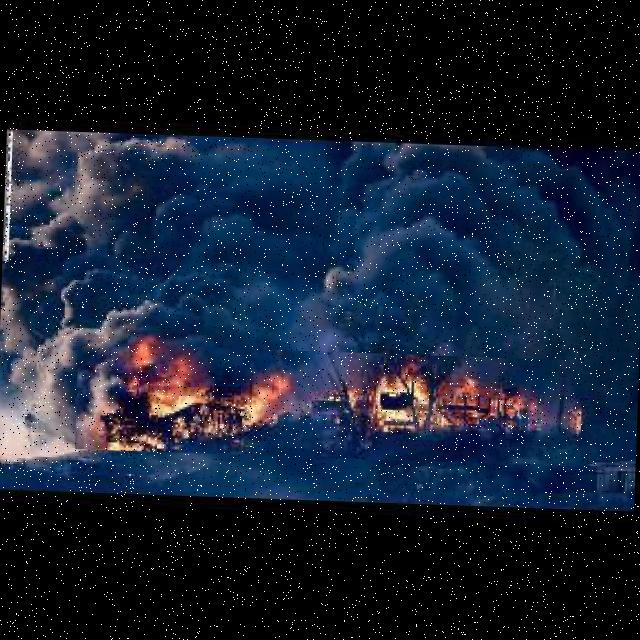fire: (75, 342, 582, 467)
